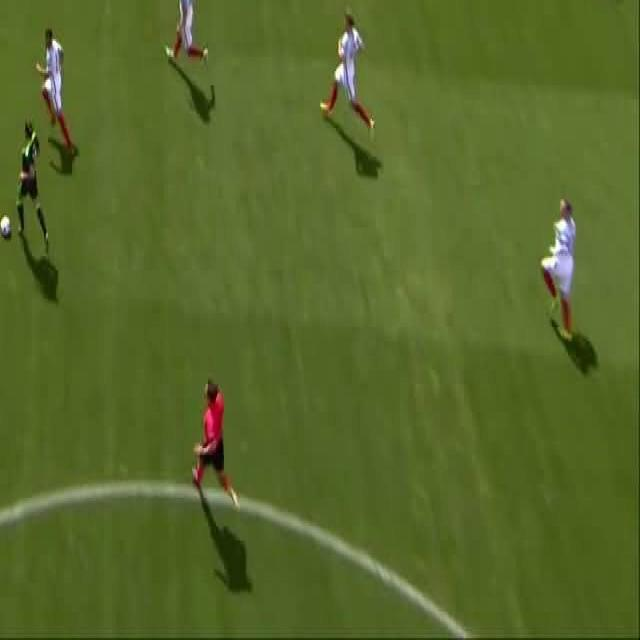ball: (0, 213, 10, 235)
player-white: (318, 9, 374, 133), (191, 380, 239, 511), (540, 194, 576, 344), (34, 27, 74, 156), (16, 119, 50, 250), (163, 0, 208, 68)
